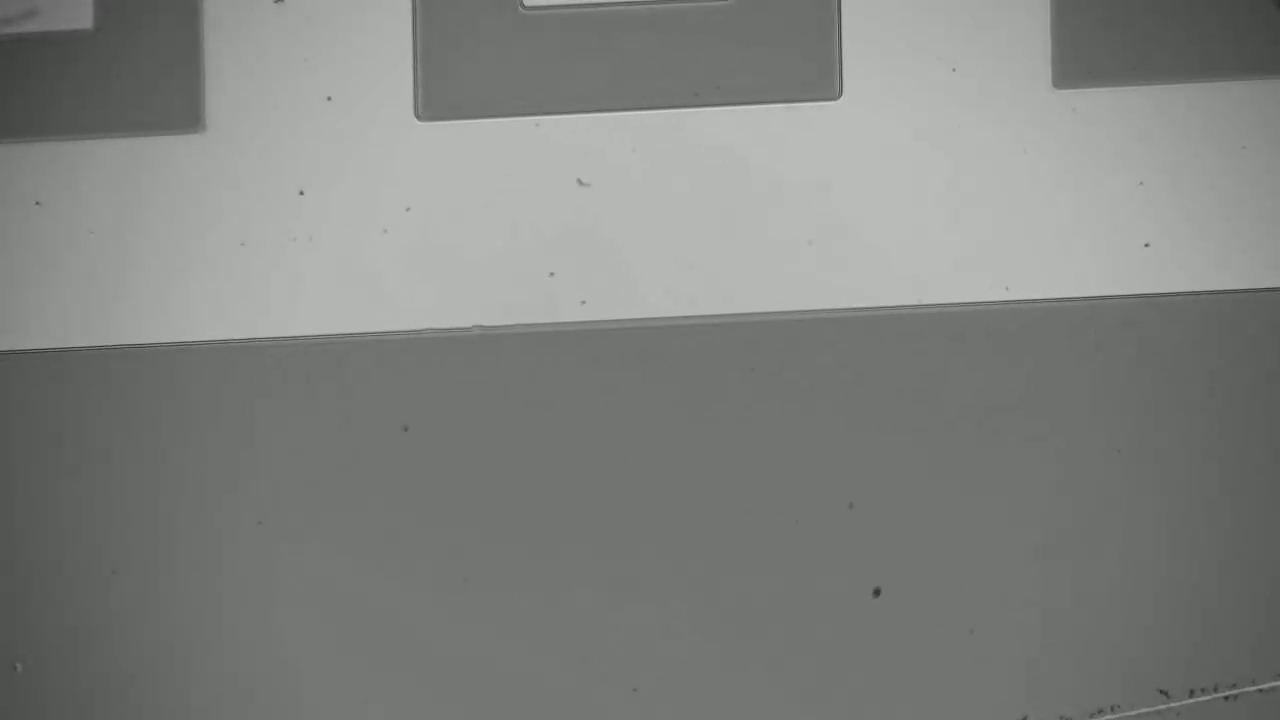scratch: (1089, 679, 1280, 712)
